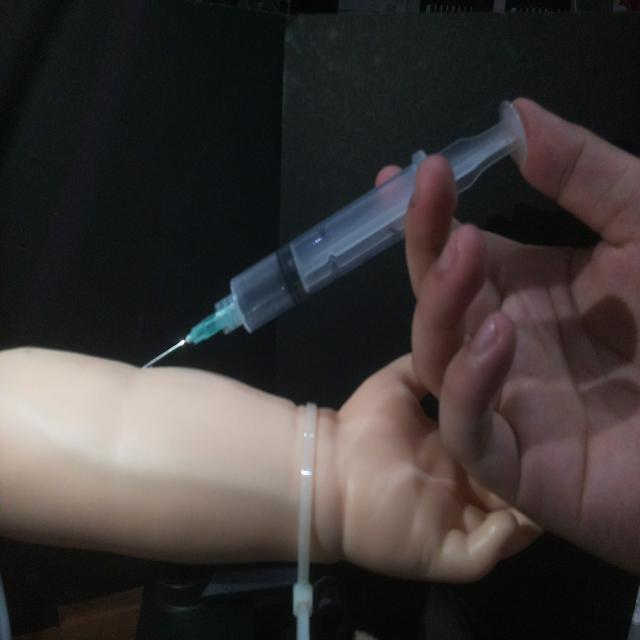27deg: (137, 95, 531, 372)
